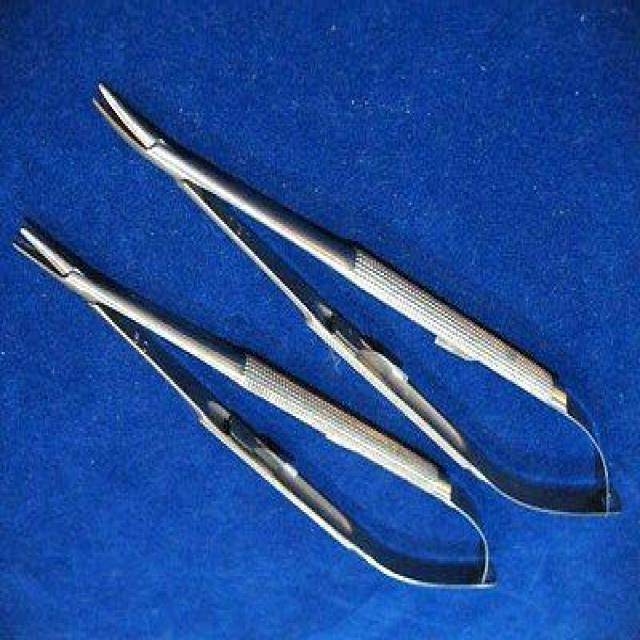Castroviejo: (86, 77, 629, 530), (8, 218, 504, 600)
